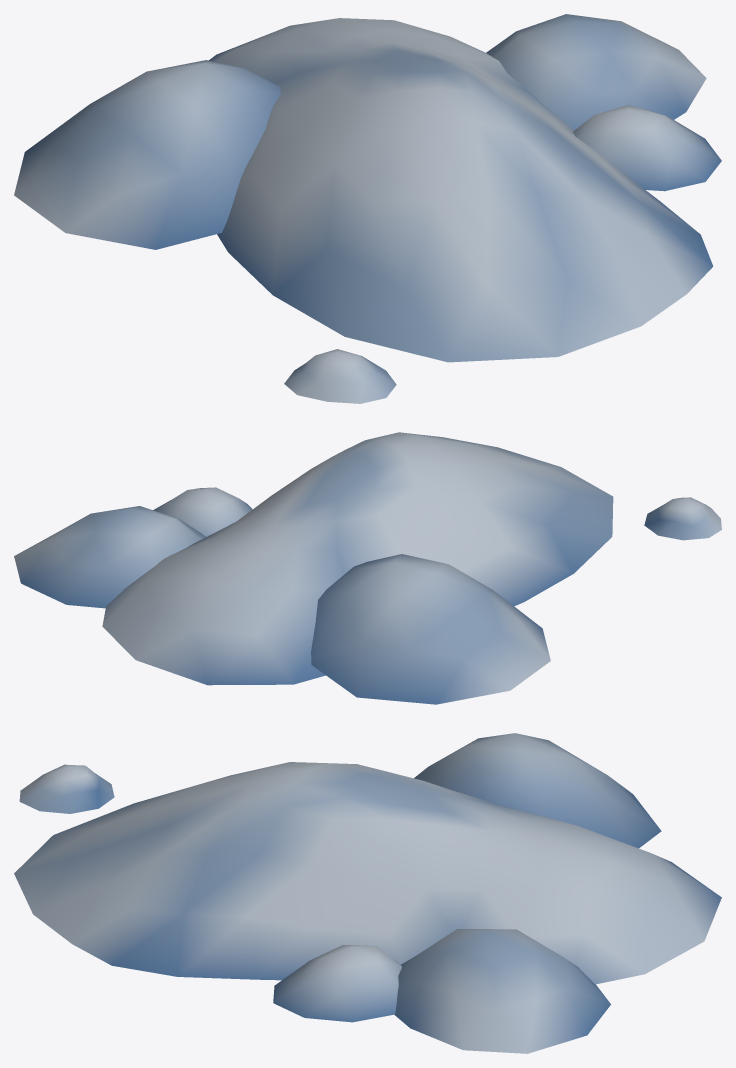
File: Snowdrift_02.fbx
3 views of the same model, one above another, from view 1: azimuth 30°, elevation 25°; view 2: azimuth 150°, elevation 25°; view 3: azimuth 270°, elevation 25° (orthographic). The views are drawn at different scales.
Visible parts, largest first — view 1: Snowdrift_02; view 2: Snowdrift_02; view 3: Snowdrift_02.
Part boxes in pixels (box(x1,y1,x2,y2)): Snowdrift_02: box(14, 14, 721, 403); Snowdrift_02: box(14, 432, 721, 704); Snowdrift_02: box(14, 733, 721, 1053).
Bounding box in the file's own units: 5110 × 1058 × 5408.
